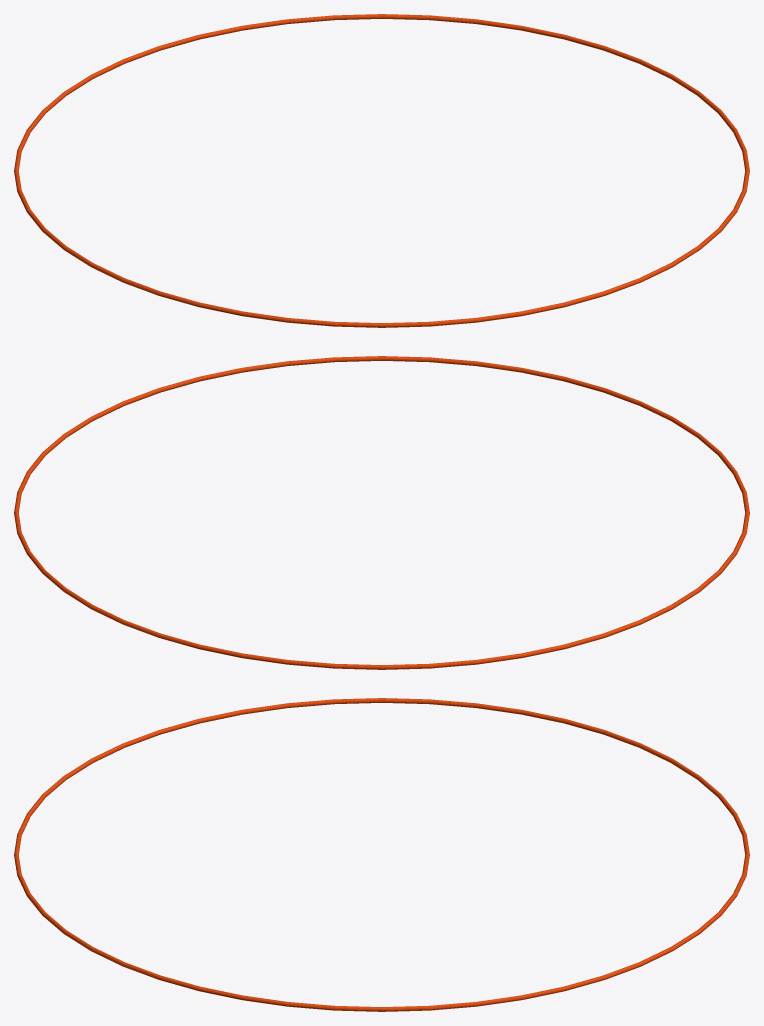
Rendered from TowerRange.fbx.
3 renders of one model, top to bottom at view 1: azimuth 30°, elevation 25°; view 2: azimuth 150°, elevation 25°; view 3: azimuth 270°, elevation 25°, orthographic.
Visible parts, largest first — view 1: Torus.001; view 2: Torus.001; view 3: Torus.001.
Part boxes in pixels (x1,y1,x2,y2): Torus.001: [14, 14, 749, 327]; Torus.001: [14, 356, 749, 669]; Torus.001: [14, 698, 749, 1011].
Bounding box in the file's own units: 201 × 1.32 × 201.
